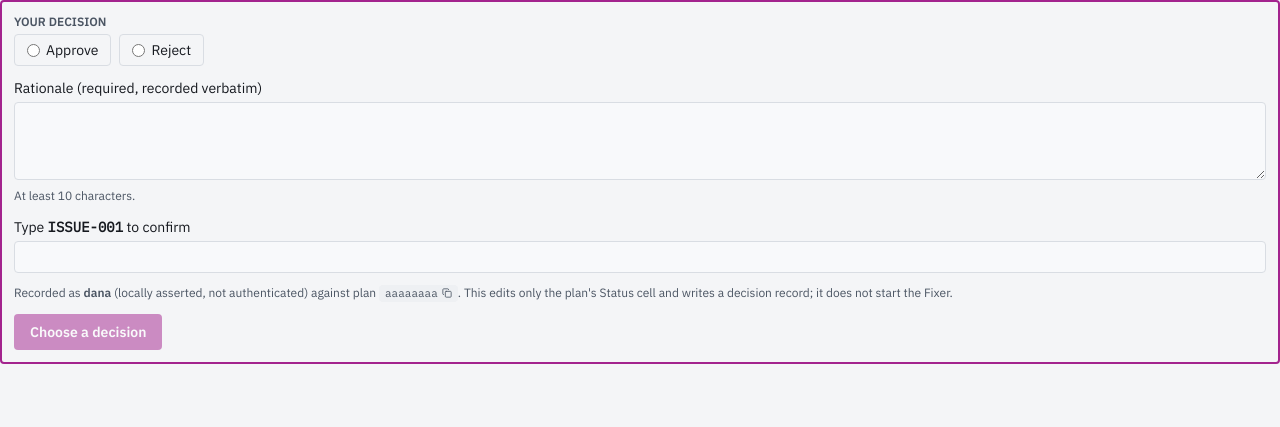
Test case: DecisionForm (stale-state protection) › re-reads the plan before posting and refuses when its hash changed
Click the radio button labelled "Reject" at {"x": 139, "y": 50}, box [132,44,146,56]
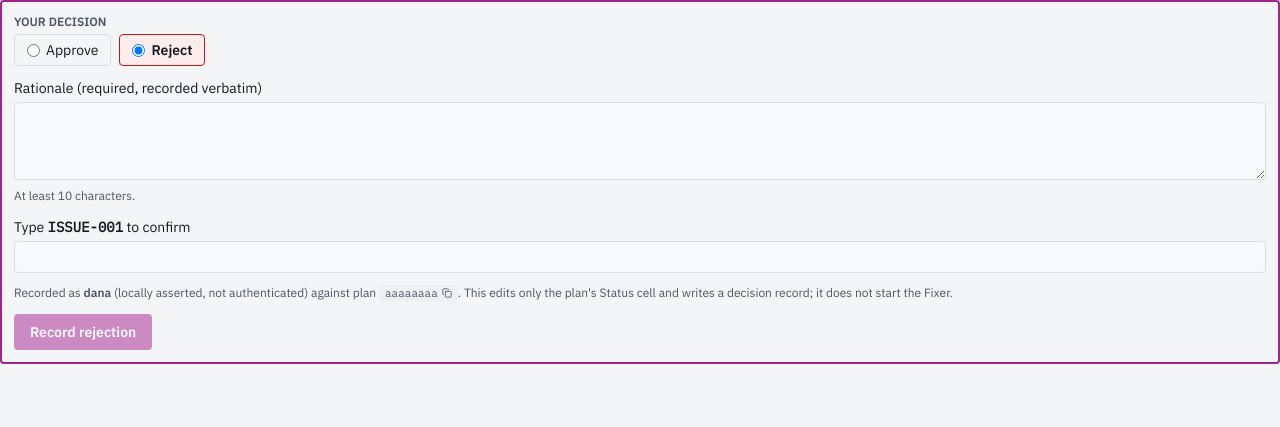
Type "Does not cover the export path." into the text box labelled "Rationale" at {"x": 640, "y": 141}, box [14,102,1266,180]
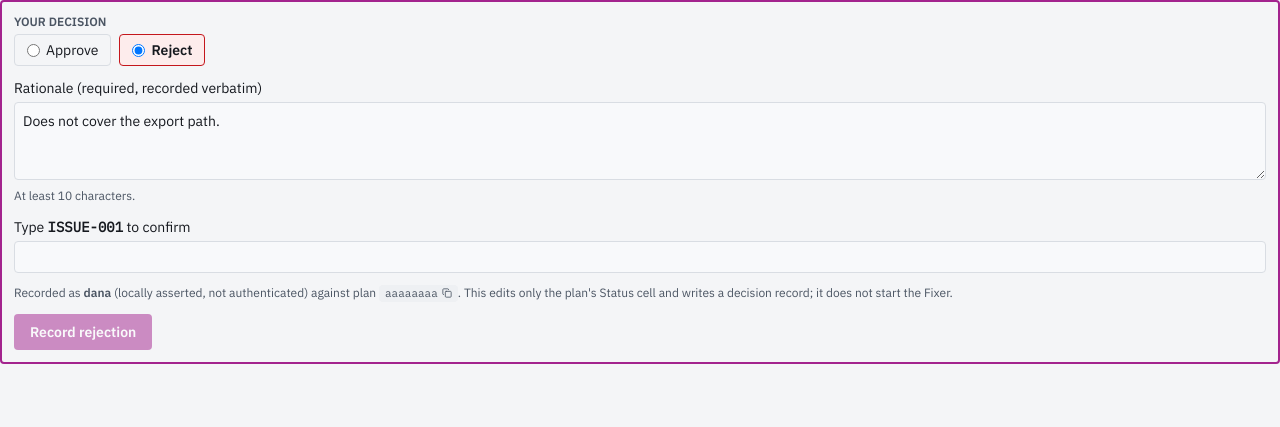
Type "ISSUE-001" into the field labelled "Type ISSUE-001 to confirm" at {"x": 640, "y": 257}, box [14,241,1266,273]
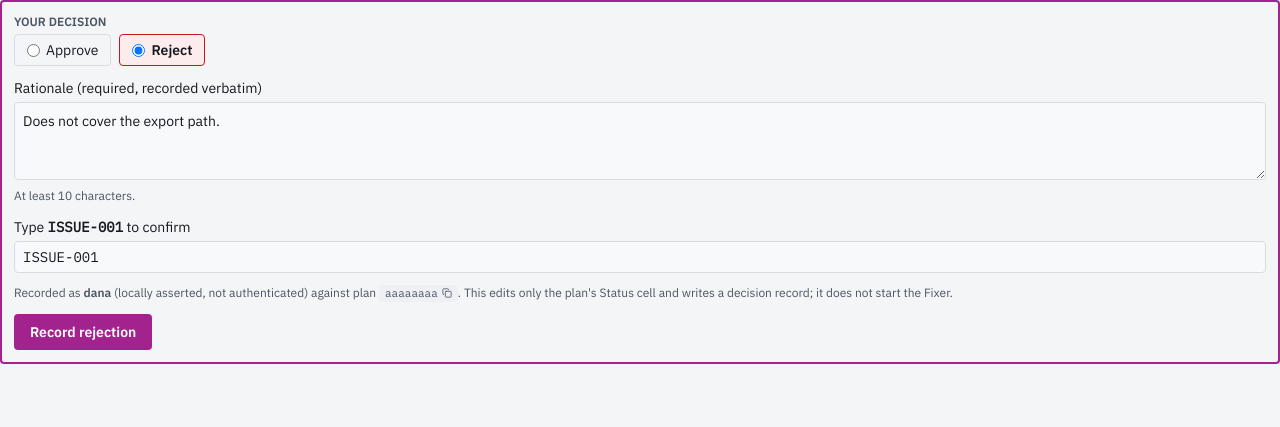
Click the button "Record rejection" at {"x": 83, "y": 332}, box [14,314,152,350]
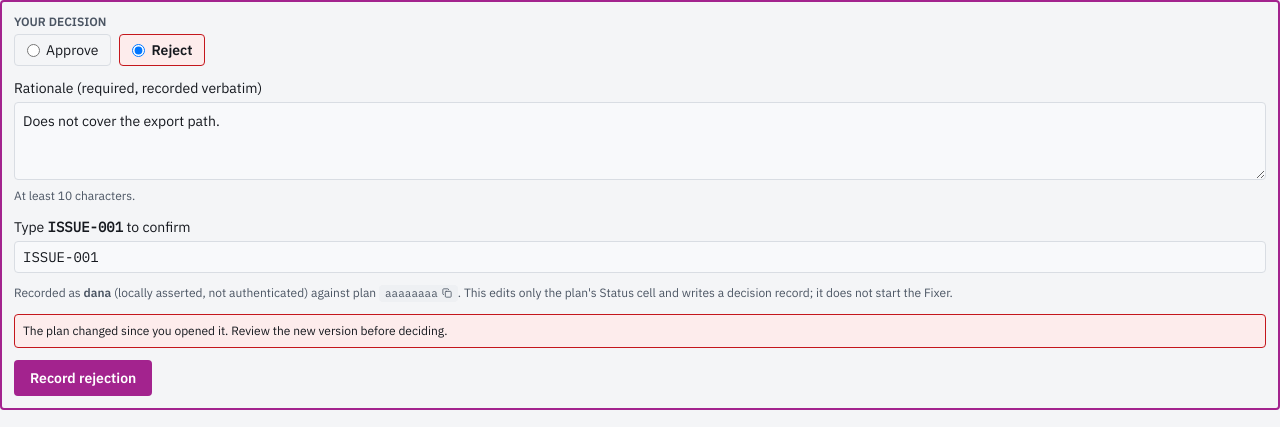
Result: the message shows "plan changed" at [23,323,448,338]
